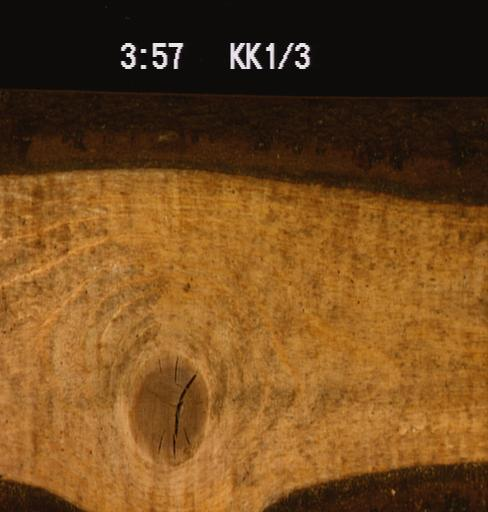sound_knot: (119, 348, 214, 467)
wave: (0, 86, 487, 213), (255, 448, 486, 510), (0, 466, 94, 510)
